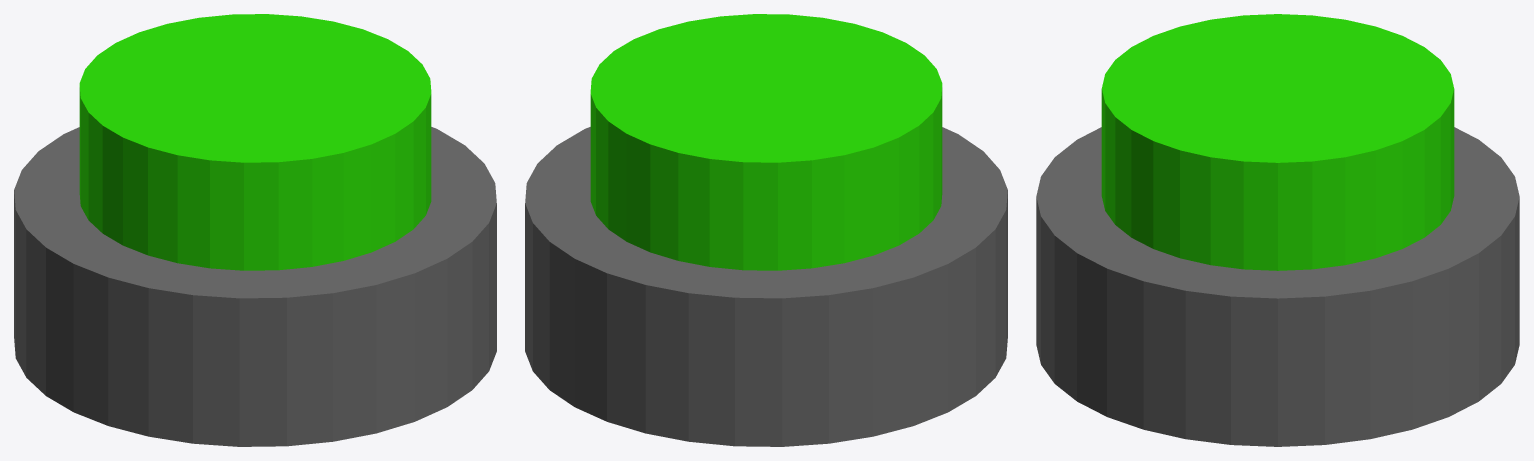
The model's file is GreenButton.glb.
3 renders of one model, left to right at view 1: azimuth 30°, elevation 25°; view 2: azimuth 150°, elevation 25°; view 3: azimuth 270°, elevation 25°, orthographic.
Parts seen in each view (by area): view 1: Base, Button; view 2: Base, Button; view 3: Base, Button.
Part boxes in pixels (left/top/right/bottom): Base: left=14, top=127, right=496, bottom=446; Button: left=79, top=14, right=431, bottom=270; Base: left=525, top=127, right=1007, bottom=446; Button: left=590, top=14, right=942, bottom=270; Base: left=1036, top=127, right=1519, bottom=446; Button: left=1101, top=14, right=1454, bottom=270.
Size of the model in its own units: 0.9081 by 0.5316 by 0.9081.
